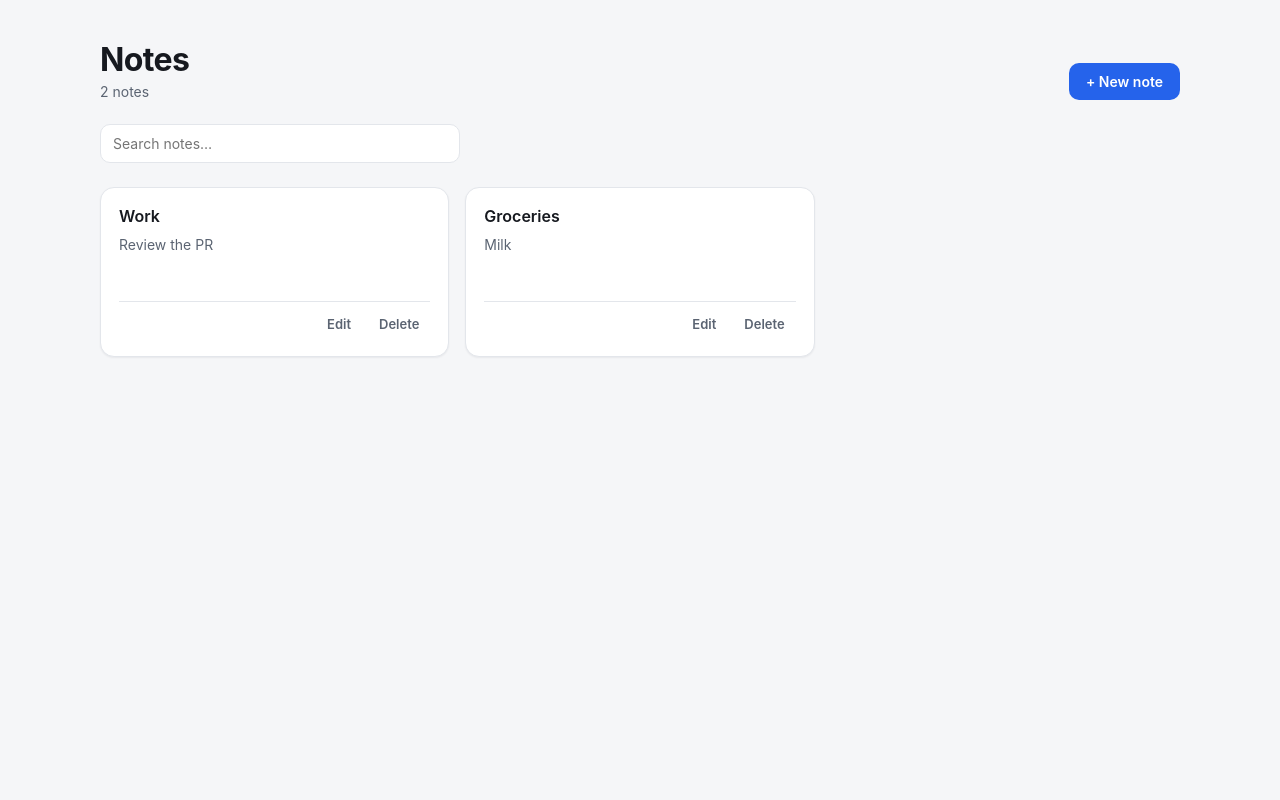
Scenario: Notes dashboard › adds a note through the API
This screenshot has width=1280, height=800.
Expected: the heading "Work" is shown, x1=119 y1=206 x2=160 y2=226
Click the button "+ New note". click: (1124, 82)
box: x1=1069 y1=63 x2=1180 y2=100
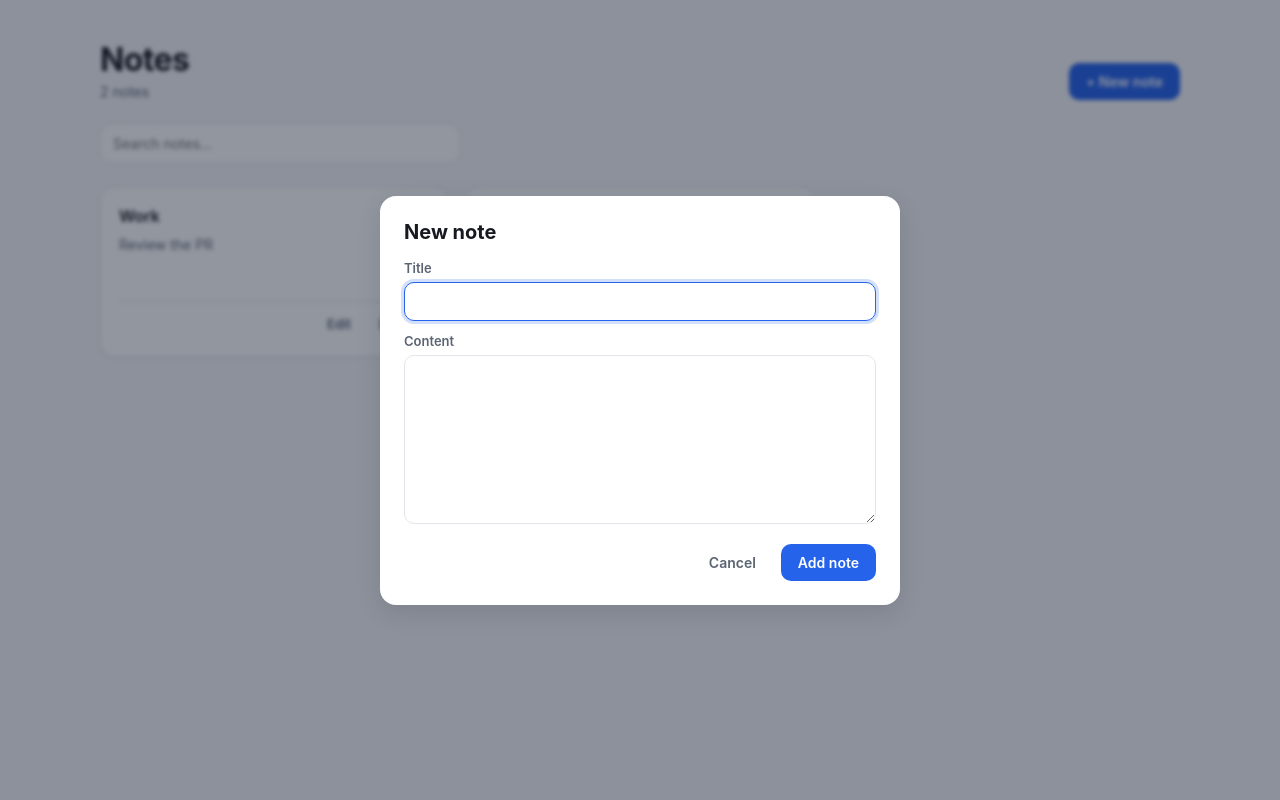
Type "Call mom" into the field labelled "Title". click: (640, 301)
box: x1=404 y1=282 x2=876 y2=320
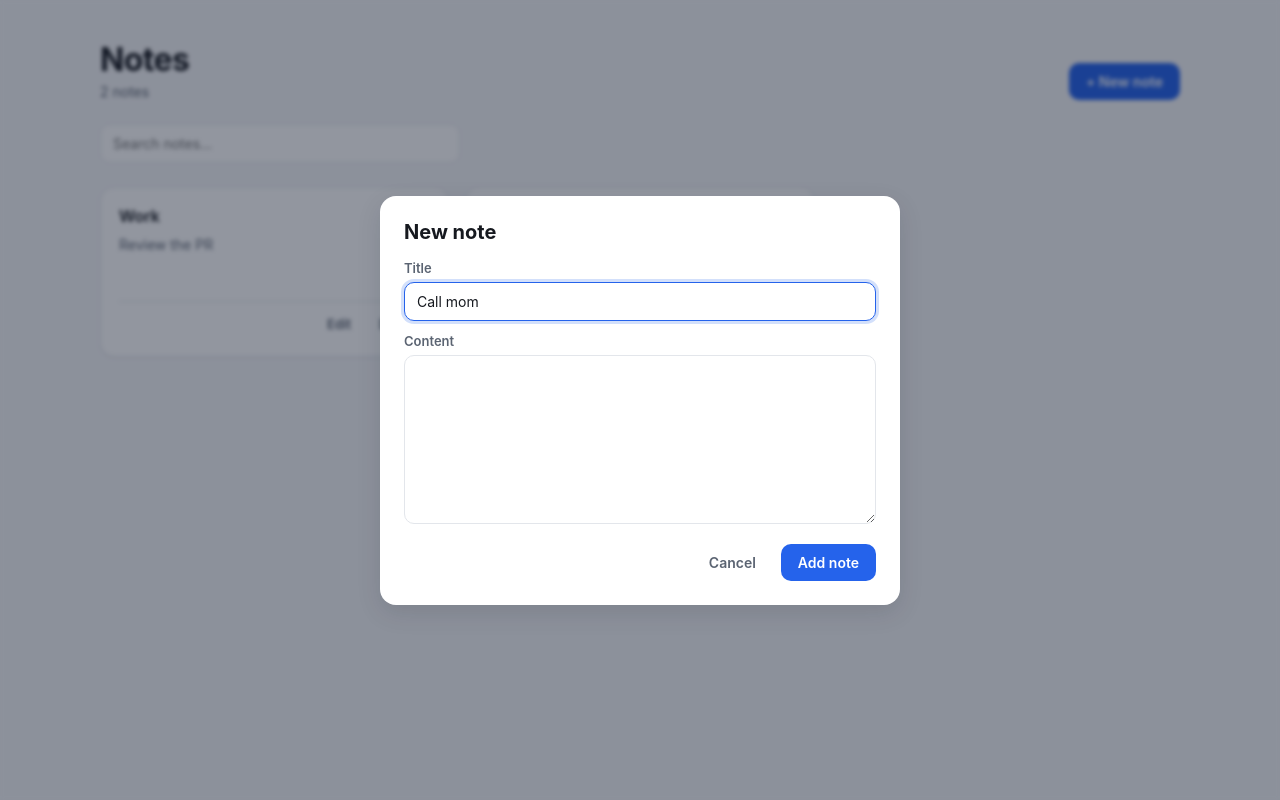
Click the button "Add note". click: (828, 562)
box: x1=781 y1=544 x2=876 y2=580
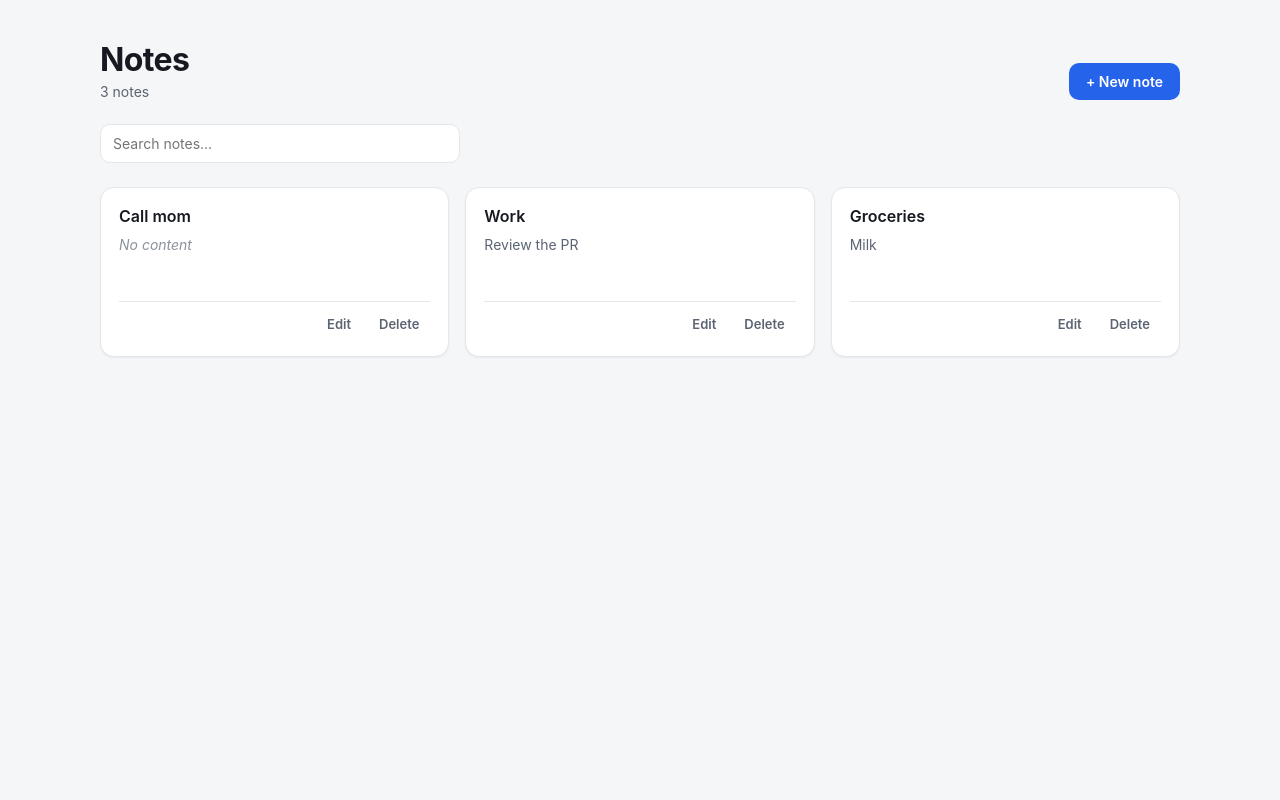
Now the heading "Call mom" is shown, box x1=119 y1=206 x2=191 y2=226
Now the text "3 notes" is shown, box x1=100 y1=83 x2=149 y2=100
